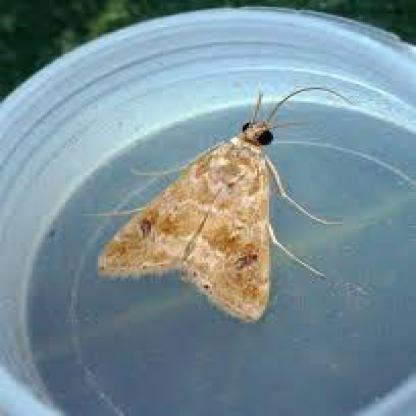Hellula undalis: (69, 75, 374, 328)
